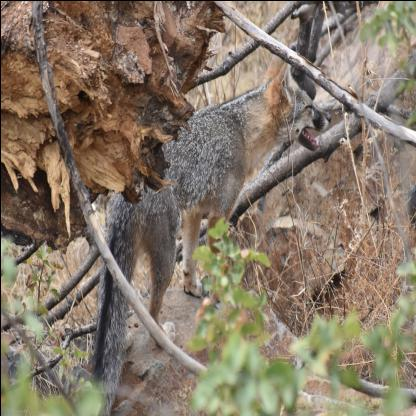zorro: (73, 35, 343, 415)
